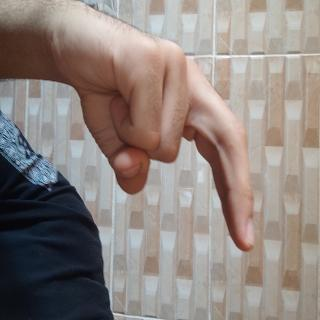ZAY: (2, 68, 199, 320)
